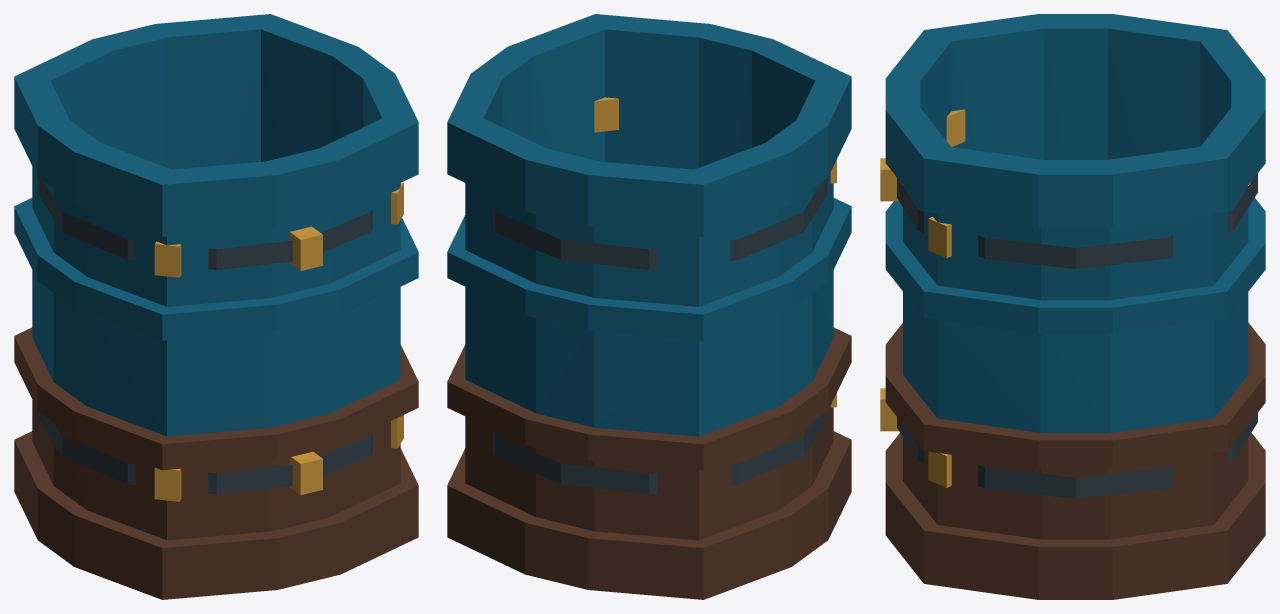
Rendered from open-barrel-sky.glb.
3 renders of one model, left to right at view 1: azimuth 30°, elevation 25°; view 2: azimuth 150°, elevation 25°; view 3: azimuth 270°, elevation 25°, orthographic. The views are drawn at different scales.
Visible parts, largest first — view 1: open-barrel-sky; view 2: open-barrel-sky; view 3: open-barrel-sky.
Part boxes in pixels (box(x1,y1,x2,y2)): open-barrel-sky: box(14, 14, 418, 599); open-barrel-sky: box(447, 14, 851, 599); open-barrel-sky: box(880, 14, 1265, 599).
Size of the model in its own units: 0.68 by 0.84 by 0.6899.
